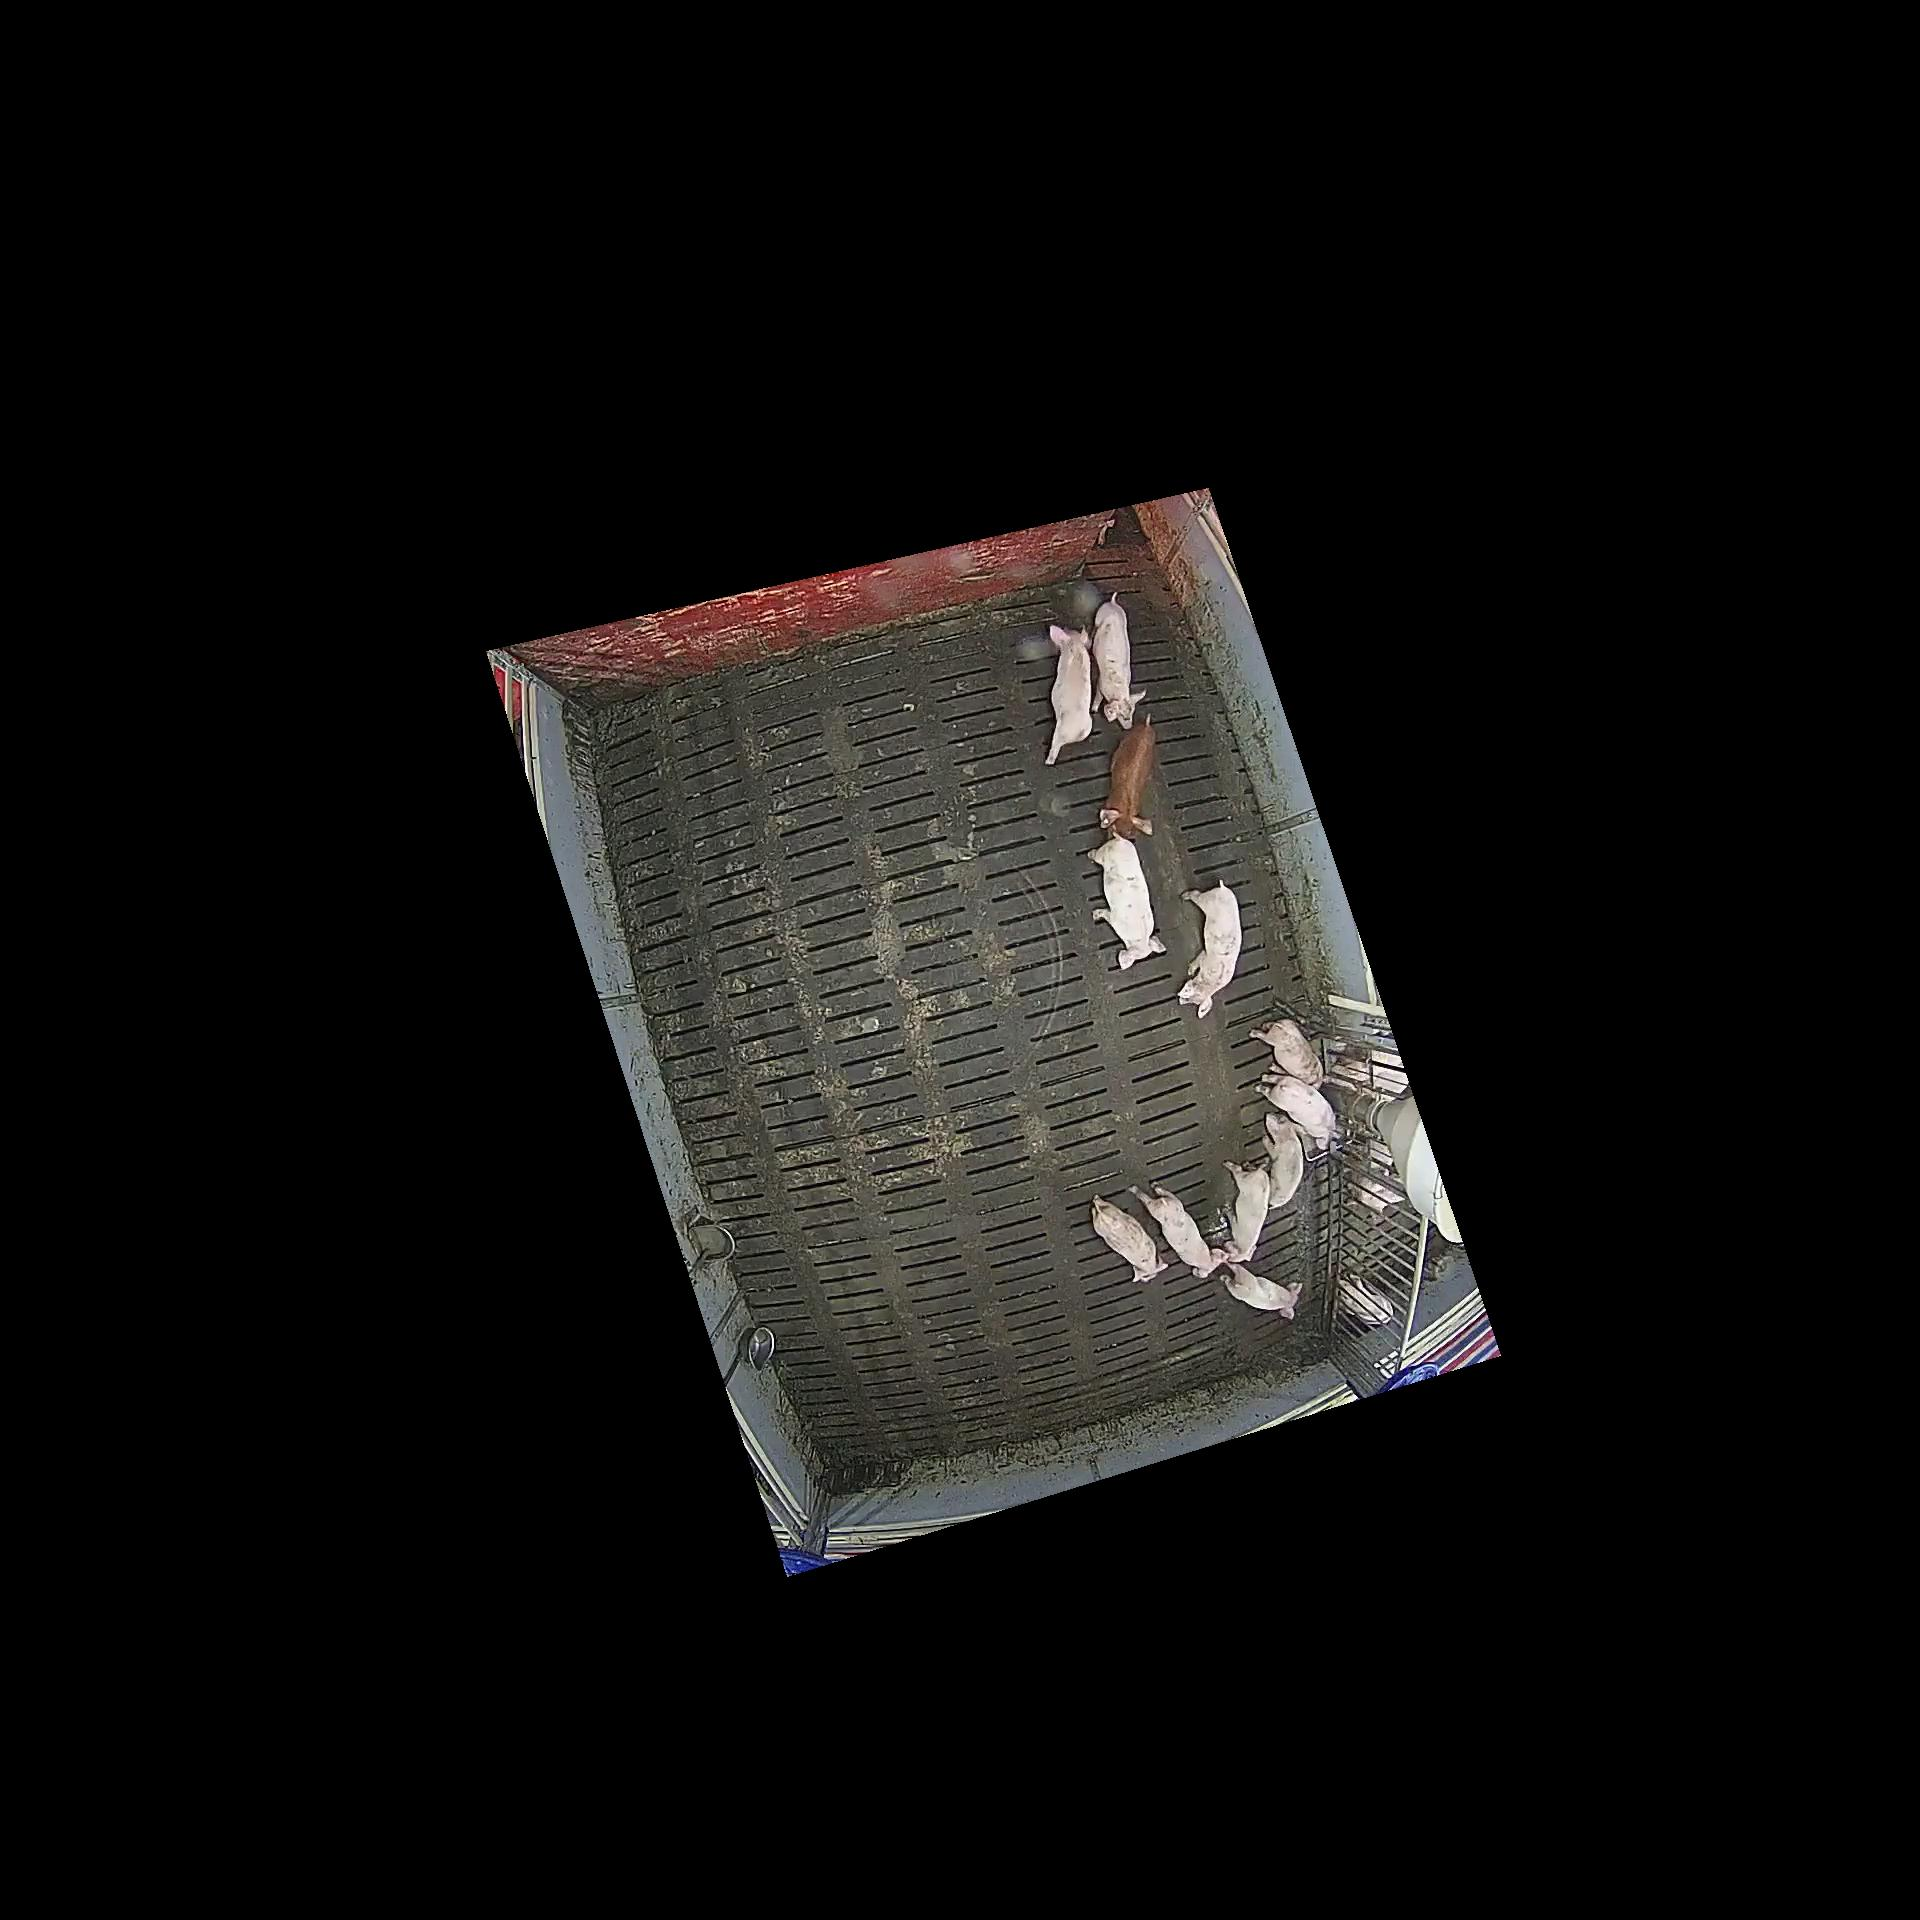pig: (1087, 837, 1166, 971), (1129, 1182, 1227, 1276), (1178, 879, 1241, 1020), (1092, 593, 1146, 730), (1099, 712, 1155, 840), (1090, 1196, 1167, 1284), (1044, 624, 1092, 765), (1254, 1074, 1335, 1138), (1220, 1262, 1303, 1320), (1250, 1022, 1326, 1085), (1222, 1160, 1269, 1261), (1261, 1113, 1303, 1208)
